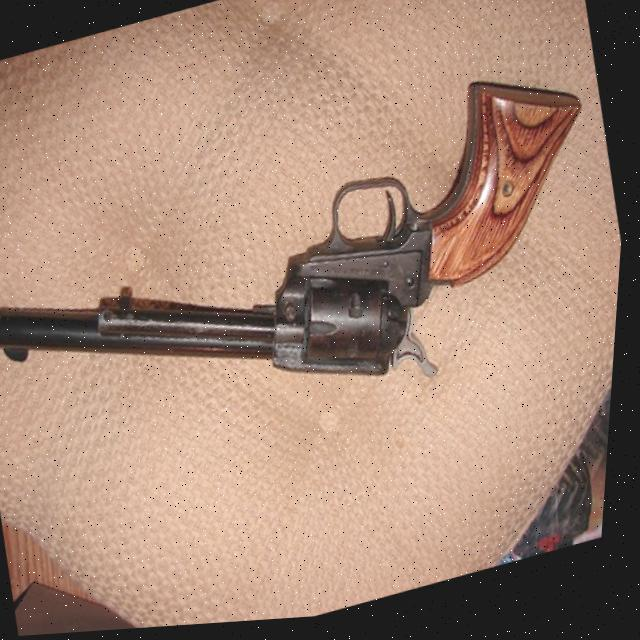pistol: (0, 56, 634, 498)
